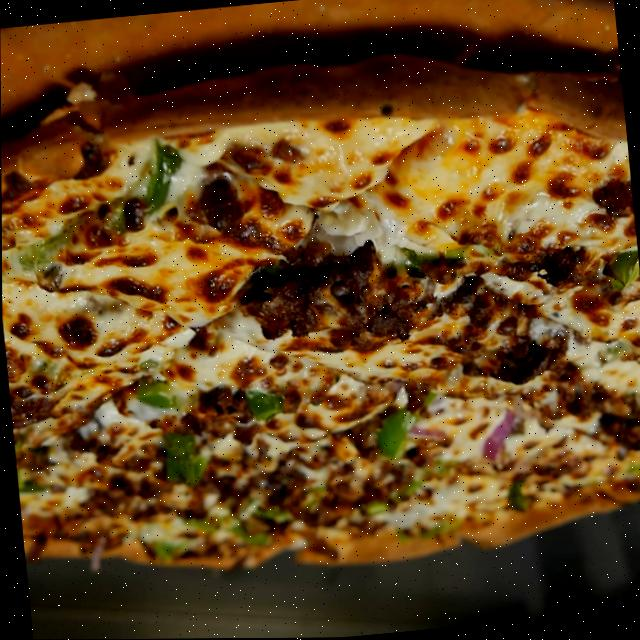pizza: (0, 21, 640, 599)
